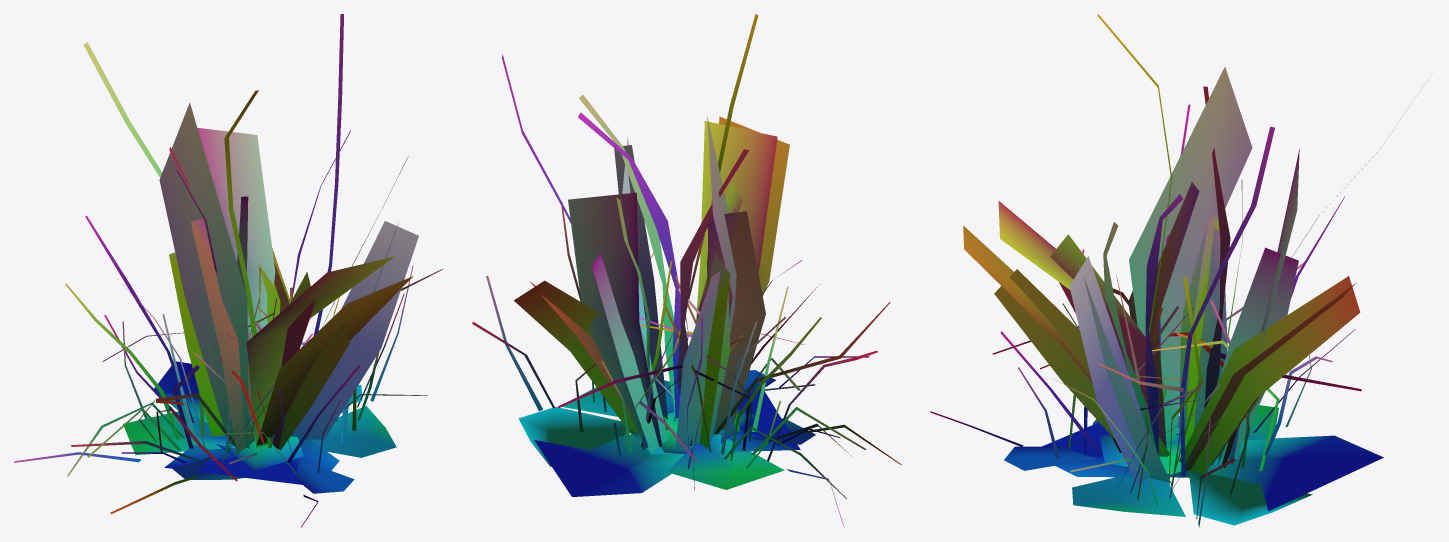
The model's file is uddmcgbia_VarJ_LOD1.fbx.
3 views of the same model, side by side, from view 1: azimuth 30°, elevation 25°; view 2: azimuth 150°, elevation 25°; view 3: azimuth 270°, elevation 25° (orthographic). The views are drawn at different scales.
Visible parts, largest first — view 1: _de71_VarJ_LOD2; view 2: _de71_VarJ_LOD2; view 3: _de71_VarJ_LOD2.
Part boxes in pixels (bbox=[...]): _de71_VarJ_LOD2: bbox=[14, 14, 443, 527]; _de71_VarJ_LOD2: bbox=[472, 14, 901, 527]; _de71_VarJ_LOD2: bbox=[930, 14, 1427, 527].
Size of the model in its own units: 23.36 by 23.53 by 24.71.
